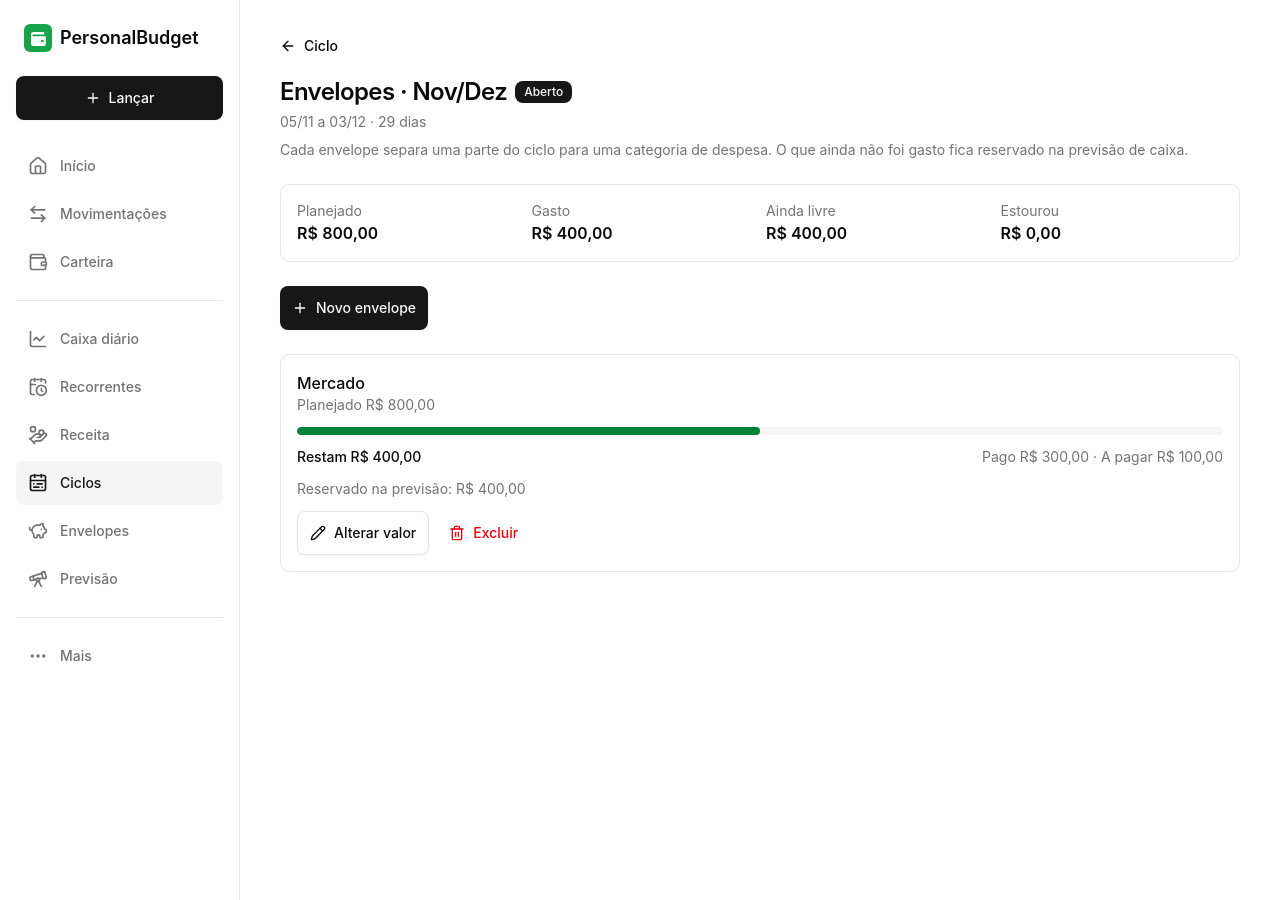
Test: Envelopes do ciclo › escrita › should show the conflict of the back, as it wrote it, and keep the sheet open
Click the button "Novo envelope" at [354, 308], box [280,286,428,330]
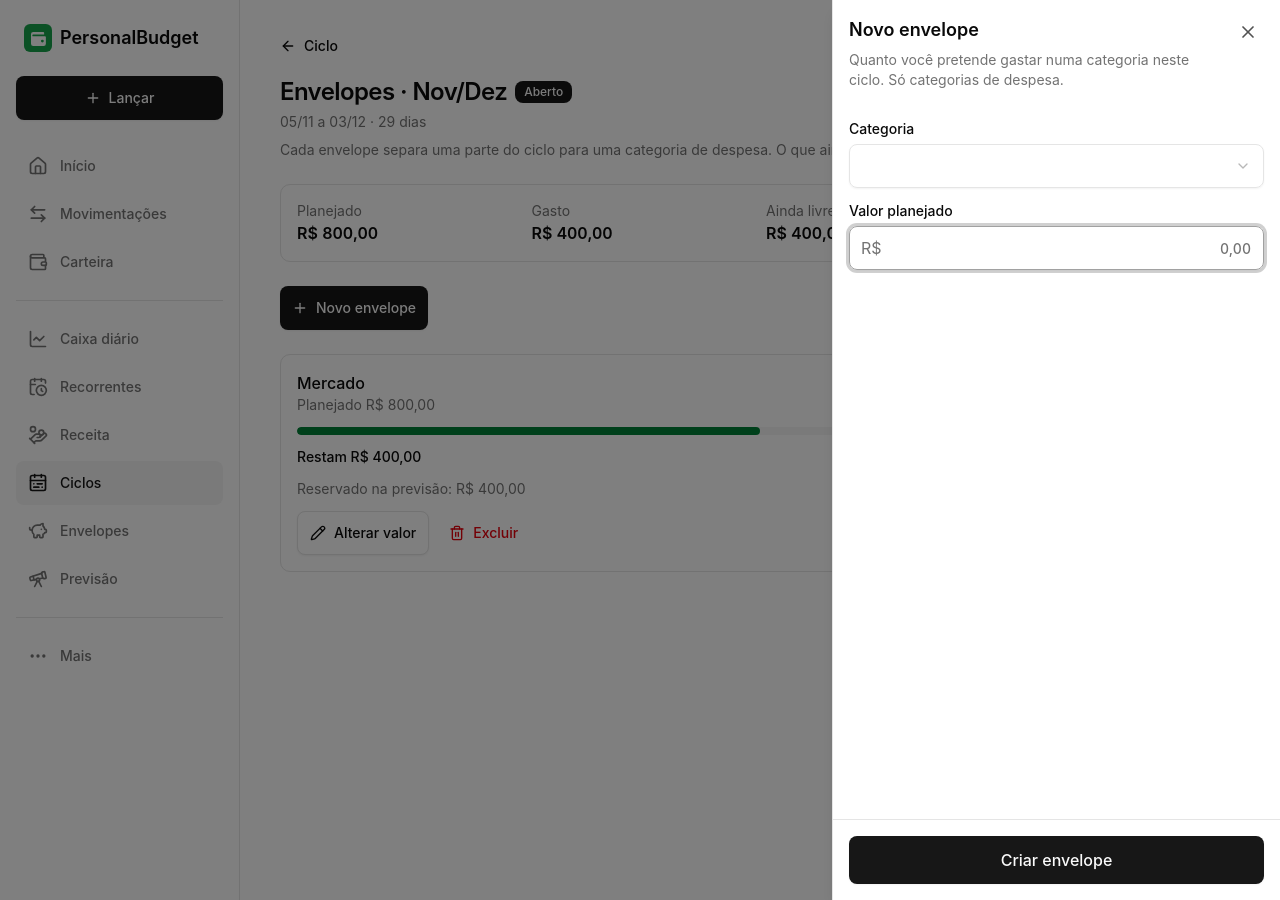
Click the dropdown named "Categoria" at [1243, 166], box [849,144,1264,188]
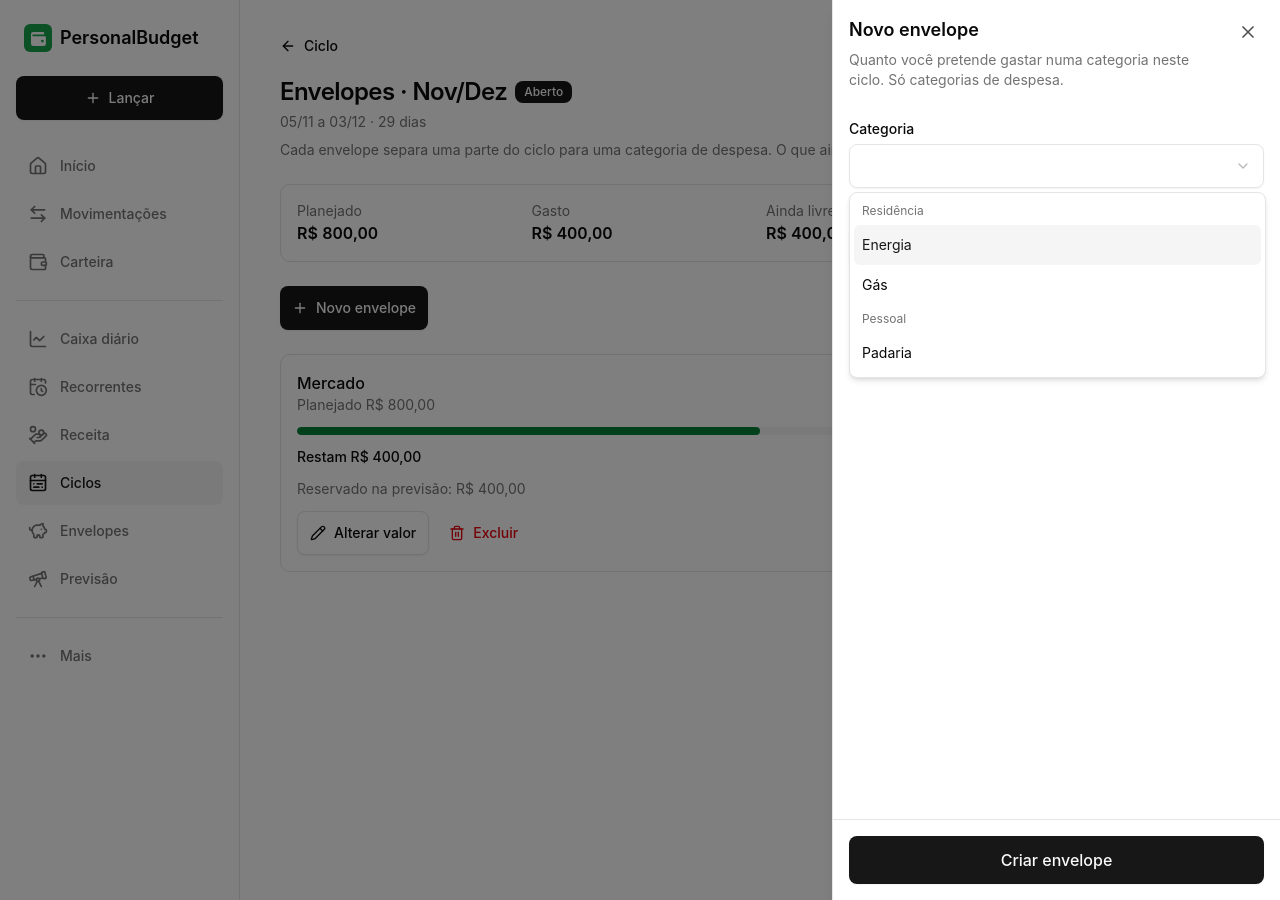
Click the option "Gás" at [875, 284], box [862,276,888,293]
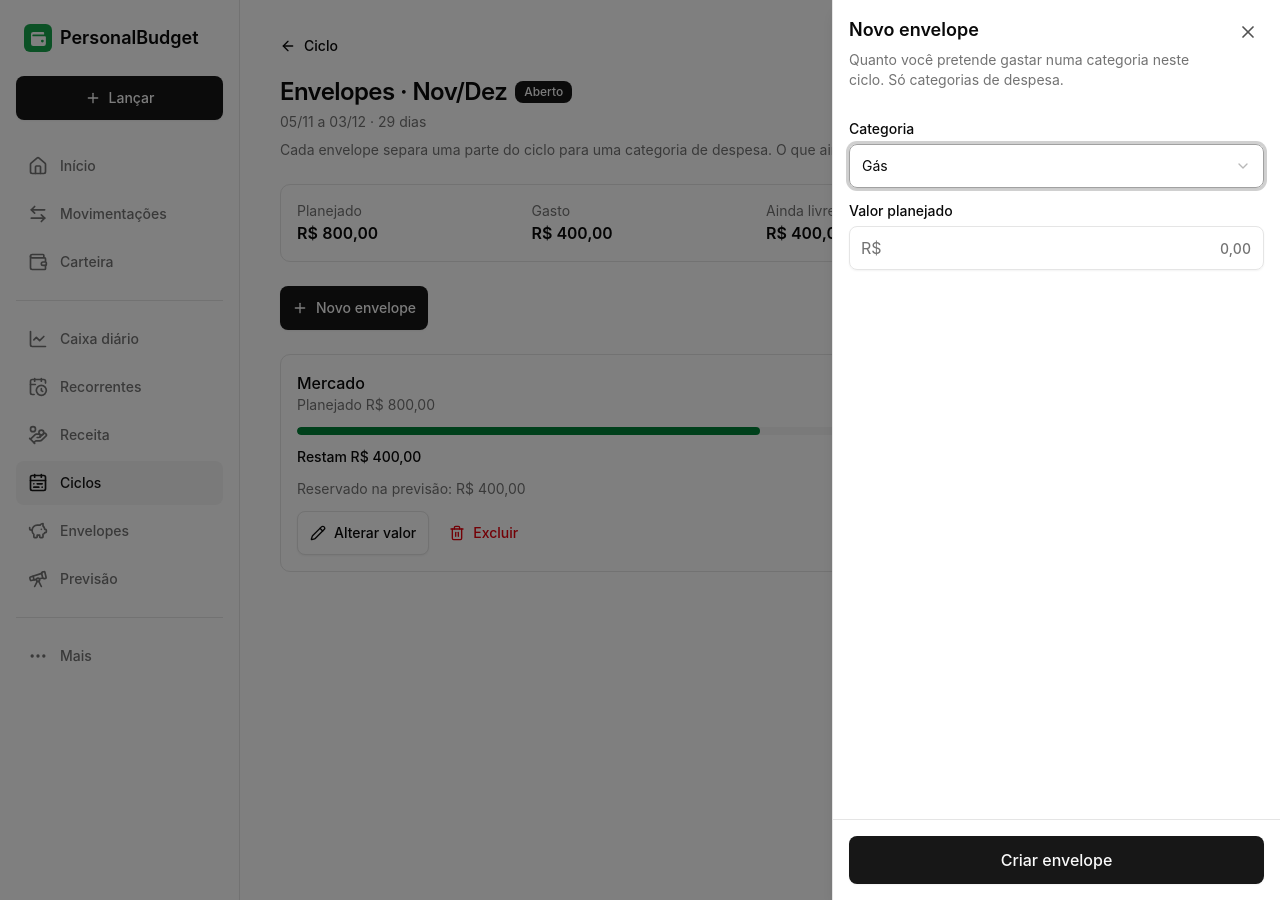
Type "10" into the field labelled "Valor planejado" at [1056, 248], box [849,226,1264,270]
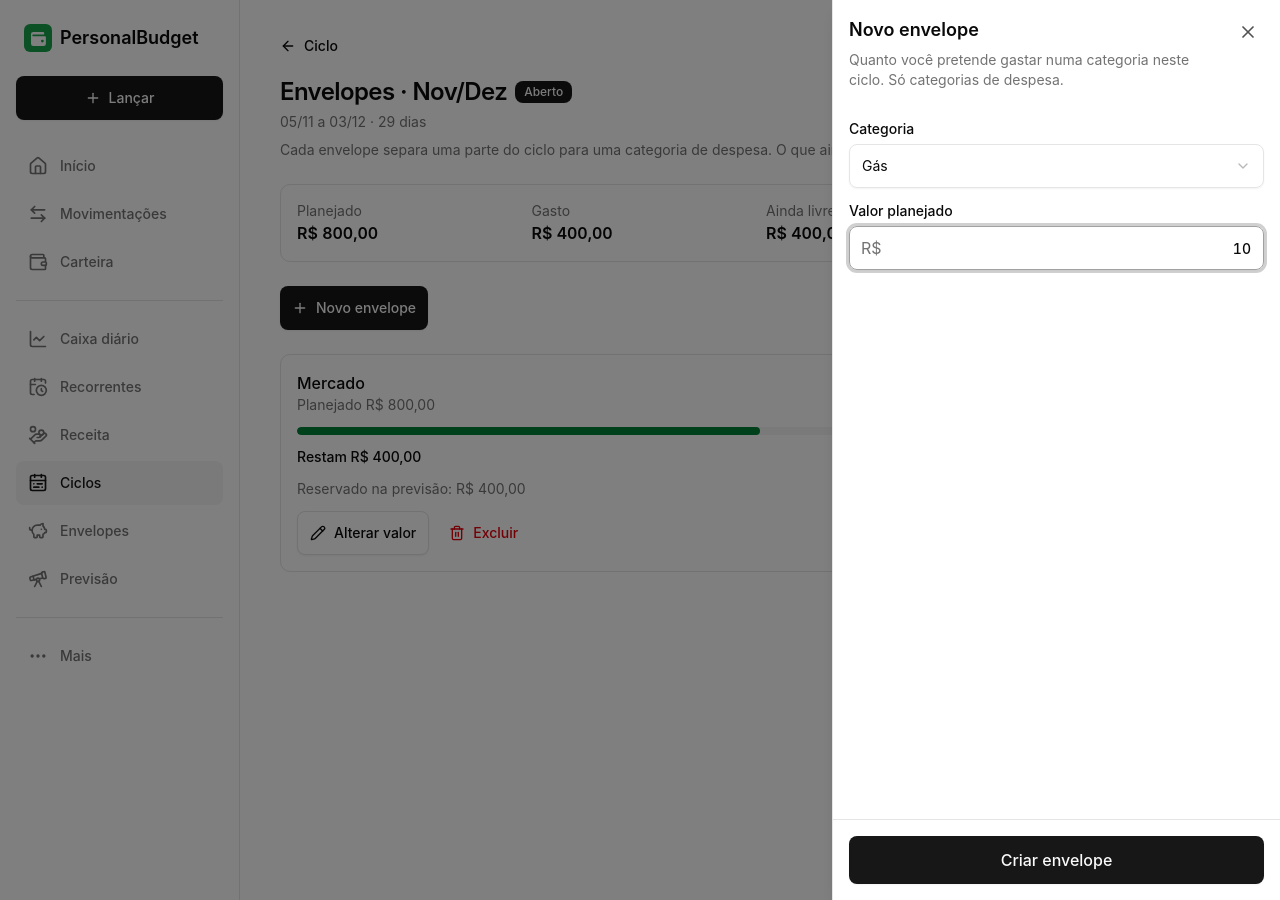
Click the button "Criar envelope" at [1056, 860], box [849,836,1264,884]
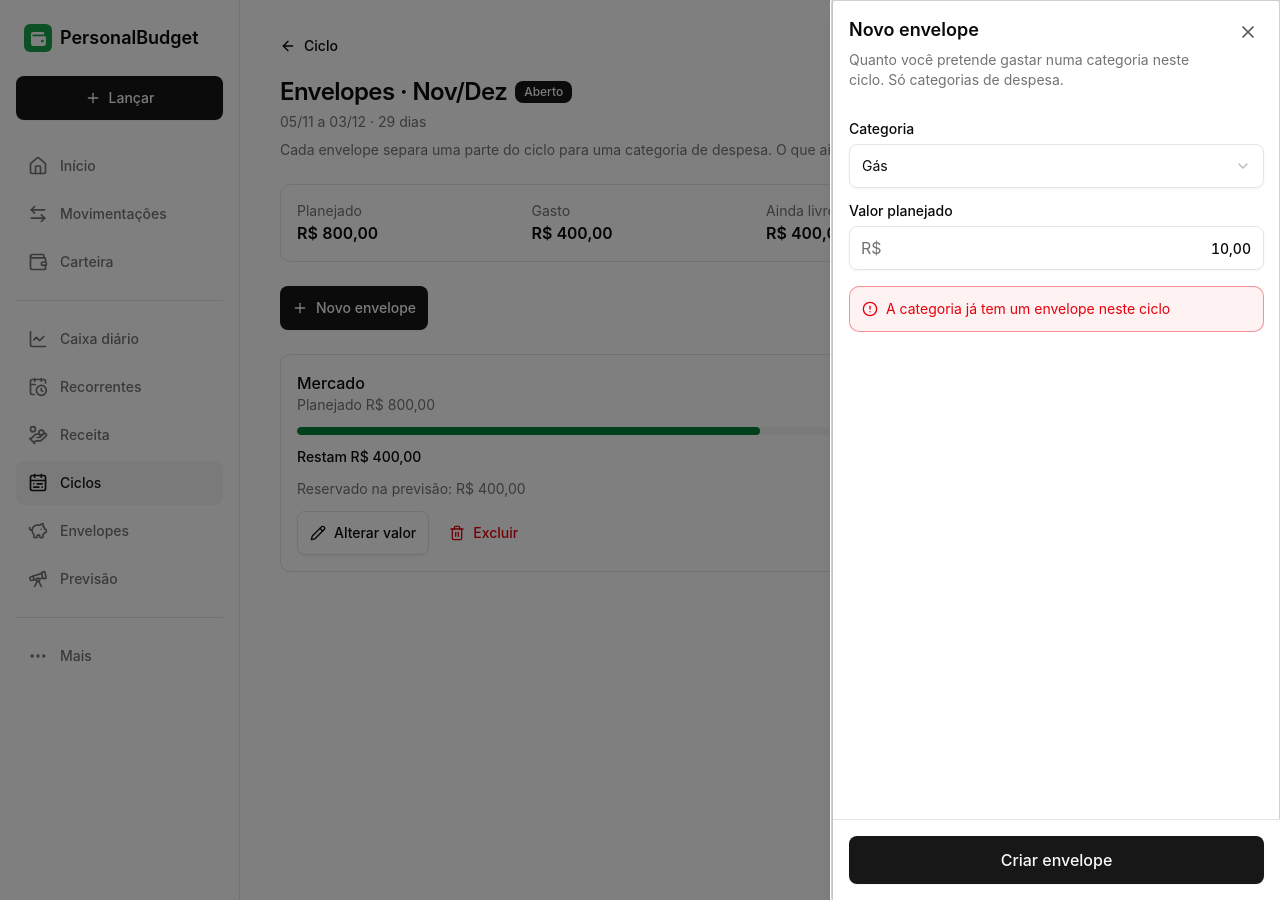
Expected: the text "A categoria já tem um envelope neste ciclo" is shown, [886,299,1170,319]
